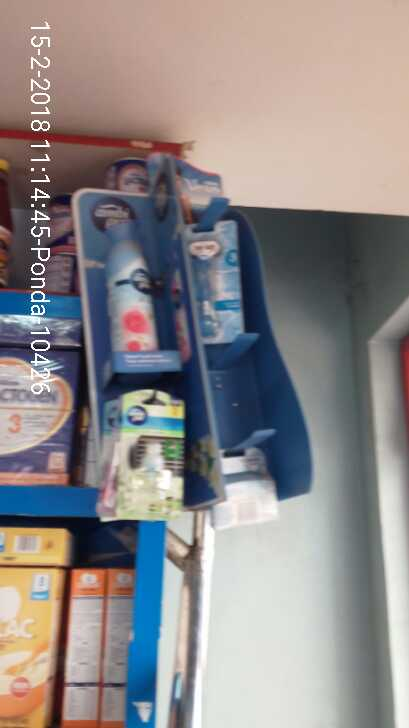home: (111, 396, 183, 514), (102, 220, 160, 354)
venus: (182, 219, 251, 343)
